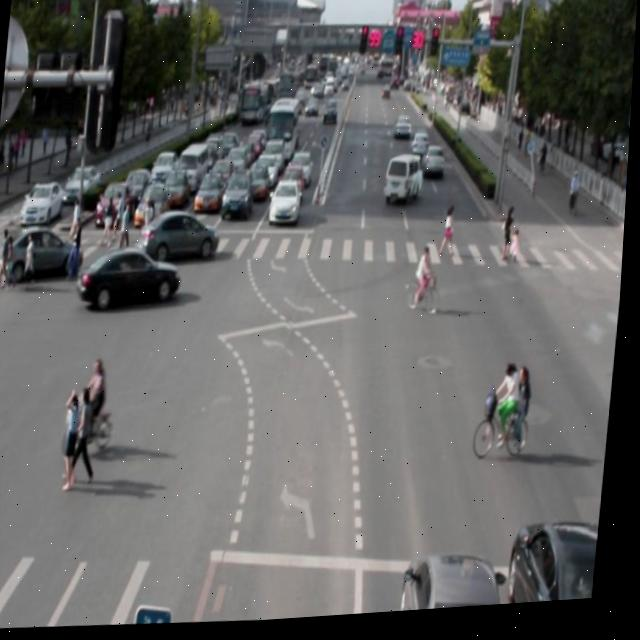car: (510, 527, 605, 612), (403, 555, 520, 617), (81, 243, 186, 311), (139, 207, 224, 266)
